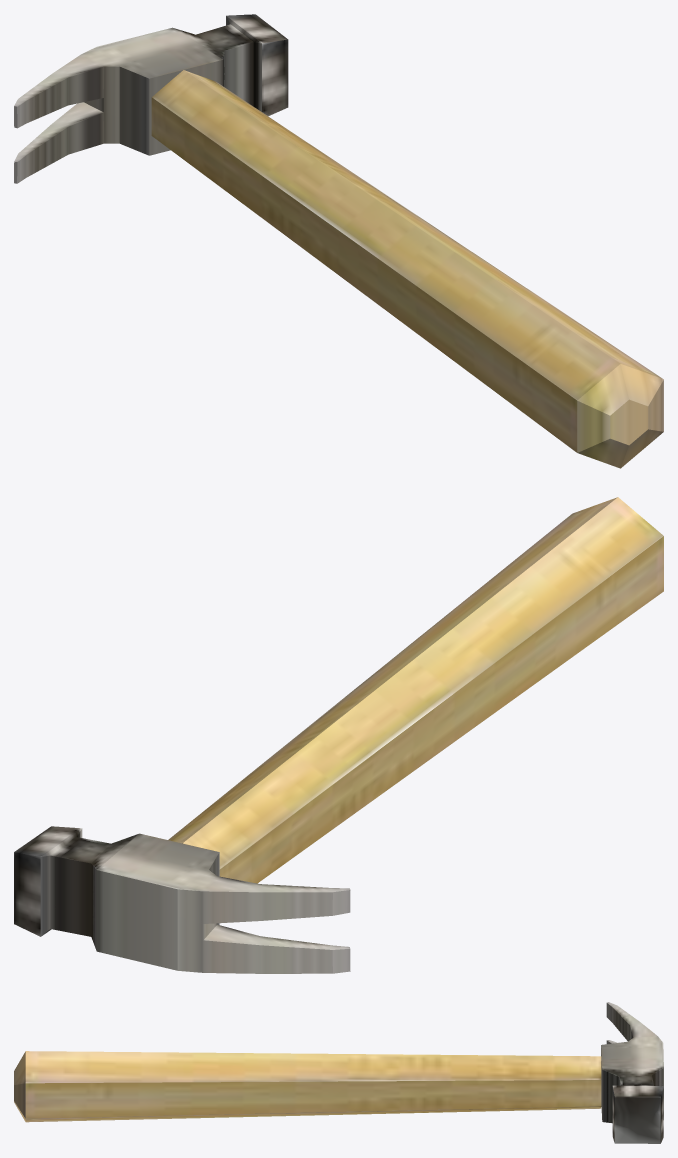
Rendered from Hammer.fbx.
3 views of the same model, one above another, from view 1: azimuth 30°, elevation 25°; view 2: azimuth 150°, elevation 25°; view 3: azimuth 270°, elevation 25° (orthographic). The views are drawn at different scales.
Parts seen in each view (by area): view 1: Hammer; view 2: Hammer; view 3: Hammer.
Boxes of the visible parts, <box> form: Hammer: <box>14,14,663,468</box>; Hammer: <box>14,497,663,973</box>; Hammer: <box>14,1002,663,1143</box>.
Bounding box in the file's own units: 30.39 × 10.87 × 90.07.
